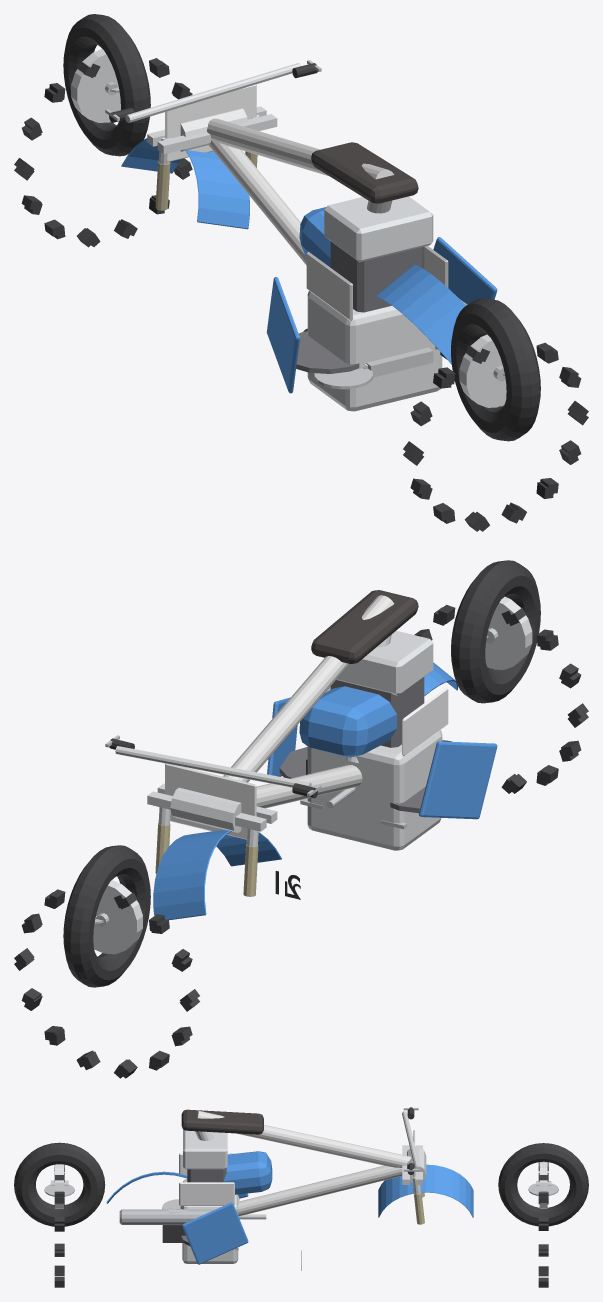
The picture shows the model from 3 angles, top to bottom: view 1: azimuth 30°, elevation 25°; view 2: azimuth 150°, elevation 25°; view 3: azimuth 270°, elevation 25°; orthographic projection. The views are drawn at different scales.
Parts seen in each view (by area): view 1: b_engine_case, b_rear_wheel_tire, b_front_wheel_tire, b_engine_head, b_front_fender, b_rear_fender, b_seat, b_engine_cyl, b_frame_down, b_frame_spine, b_front_plate, b_front_wheel_rim (+12 smaller); view 2: b_engine_case, b_rear_wheel_tire, b_front_wheel_tire, b_front_fender, b_tank, b_shroud_-1, b_seat, b_frame_spine, b_engine_head, b_front_plate, b_front_wheel_rim, b_rear_wheel_rim (+8 smaller); view 3: b_rear_wheel_tire, b_front_wheel_tire, b_shroud_1, b_frame_down, b_frame_spine, b_front_fender, b_tank, b_seat, b_engine_head, b_sideplate_1, b_silencer, b_engine_case (+8 smaller).
Boxes of the visible parts, x1,y1,x2,y2 form: b_engine_case: (307,290,442,411); b_rear_wheel_tire: (451,298,540,441); b_front_wheel_tire: (63,14,150,156); b_engine_head: (324,196,433,262); b_front_fender: (121,138,249,229); b_rear_fender: (376,264,465,364); b_seat: (311,142,418,203); b_engine_cyl: (330,241,424,312); b_frame_down: (208,139,306,265); b_frame_spine: (207,118,394,179); b_front_plate: (165,84,256,161); b_front_wheel_rim: (71,49,120,122); b_engine_case: (307,730,442,850); b_rear_wheel_tire: (451,560,540,703); b_front_wheel_tire: (63,845,150,987); b_front_fender: (153,830,281,920); b_tank: (299,686,396,757); b_shroud_-1: (419,741,497,819); b_seat: (311,590,418,663); b_frame_spine: (223,595,394,782); b_engine_head: (336,630,433,695); b_front_plate: (165,763,256,839); b_front_wheel_rim: (93,880,142,954); b_rear_wheel_rim: (485,596,532,669); b_rear_wheel_tire: (14,1142,105,1226); b_front_wheel_tire: (498,1143,588,1226); b_shroud_1: (182,1202,248,1264); b_frame_down: (238,1165,402,1216); b_frame_spine: (197,1111,411,1167); b_front_fender: (378,1164,473,1217); b_tank: (223,1151,272,1194); b_seat: (181,1109,263,1134); b_engine_head: (183,1129,227,1169); b_sideplate_1: (179,1182,234,1205); b_silencer: (119,1209,215,1224); b_engine_case: (182,1179,238,1263).
Size of the model in its own units: 0.892 by 1.14 by 3.49.
